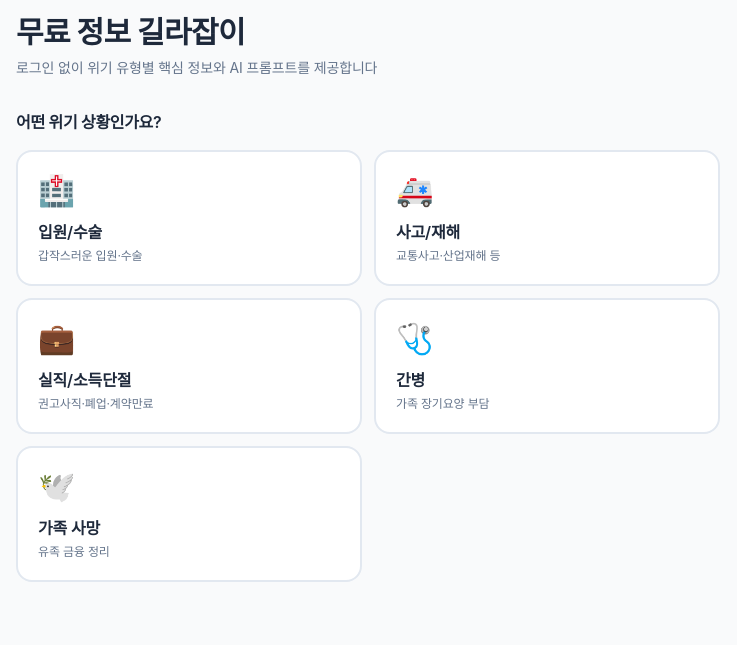
Test: GuidePage › 위기 유형 선택 클릭 시 프롬프트/수칙/면책을 표시한다
Expected: the heading "어떤 위기 상황인가요?" is shown, [16,112,161,132]
# '입원/수술' 카드 클릭
Click the text "입원/수술" at (70, 232), box [38,222,102,242]
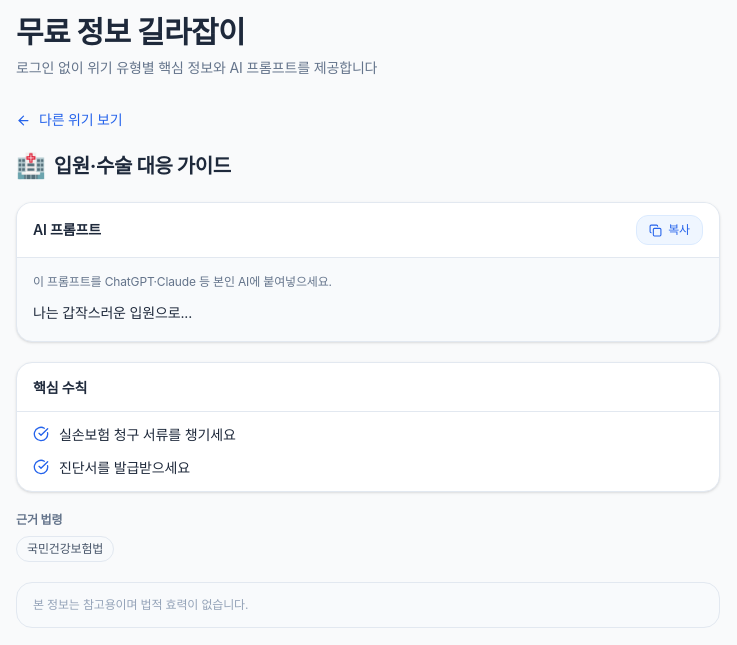
Result: the heading "입원·수술 대응 가이드" is shown at [54,152,231,180]
Result: the text "나는 갑작스러운 입원으로..." is shown at [33,304,192,321]
Result: the text "실손보험 청구 서류를 챙기세요" is shown at [59,424,236,447]
